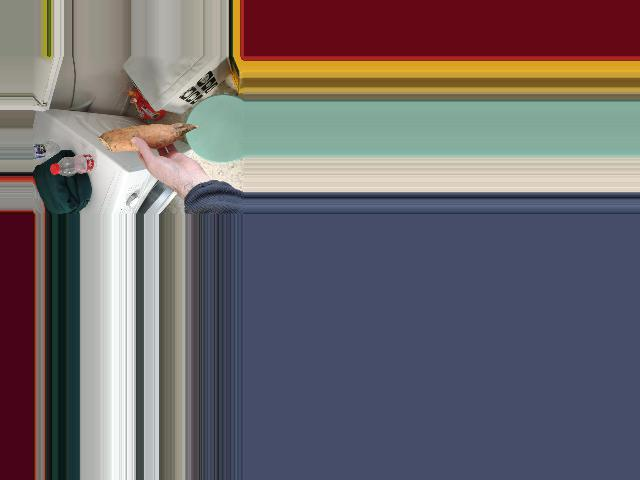sweet_potato: (95, 121, 202, 147)
